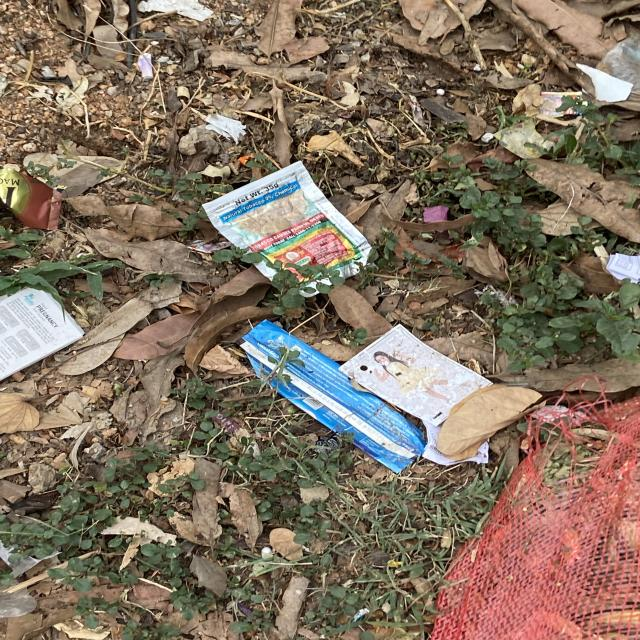giay: (339, 324, 492, 427), (0, 288, 82, 380)
giay_goi: (240, 320, 425, 473), (202, 161, 370, 279), (0, 167, 61, 229)
nhua: (432, 396, 640, 640)
